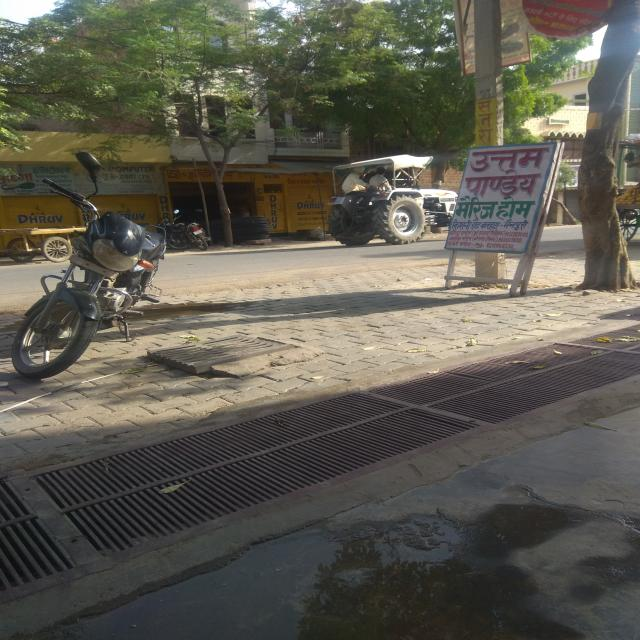Bike: (38, 167, 166, 376)
Tractor: (325, 152, 439, 249)
